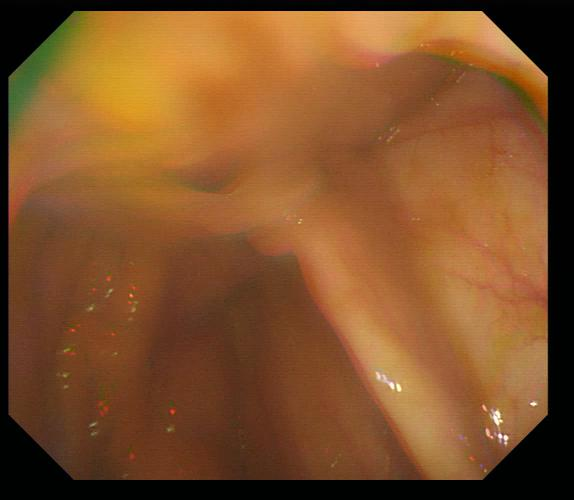polyp: (251, 217, 296, 260)
